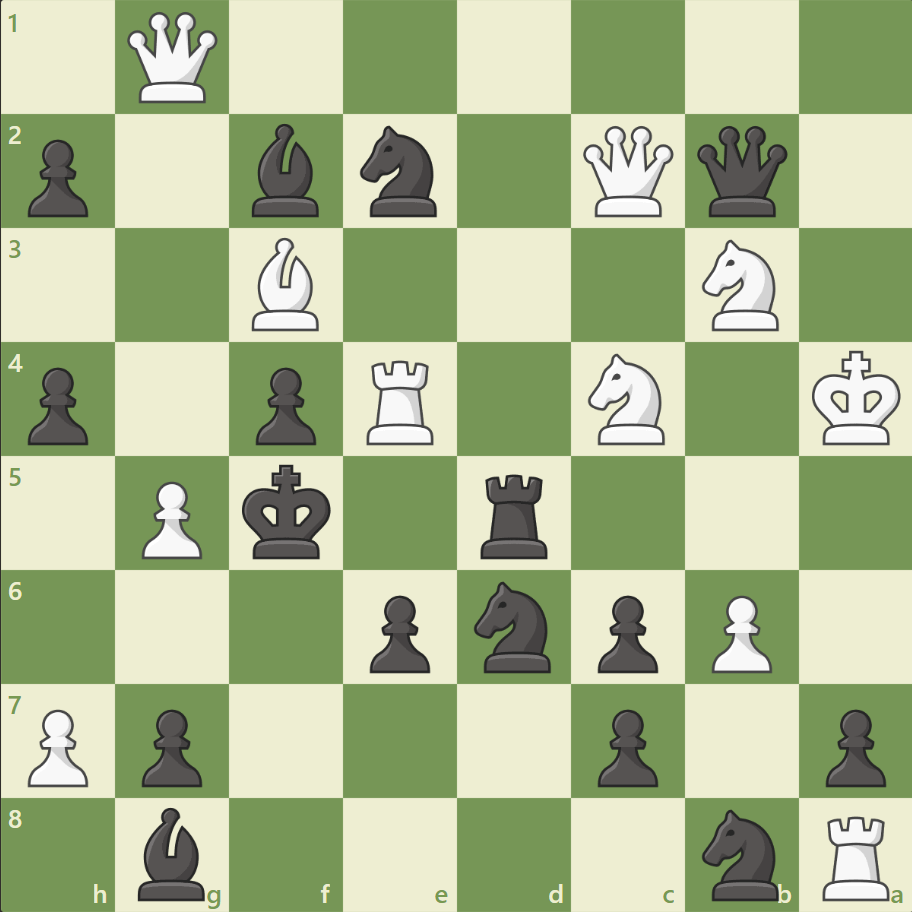B: (244, 233, 328, 336)
K: (806, 344, 906, 452)
N: (692, 234, 789, 337), (579, 348, 676, 450)
P: (20, 700, 95, 791), (701, 586, 776, 677), (133, 473, 208, 564)
Q: (578, 122, 677, 222), (124, 9, 223, 108)
R: (814, 806, 897, 904), (360, 352, 442, 449)
b: (131, 801, 215, 904), (244, 120, 328, 222)
k: (238, 458, 338, 566)
n: (351, 121, 449, 223), (692, 802, 789, 904), (465, 575, 562, 677)
p: (133, 700, 208, 791), (247, 359, 322, 450), (20, 359, 95, 450), (20, 132, 95, 223), (815, 700, 889, 791), (588, 700, 662, 791), (588, 586, 662, 677), (361, 586, 435, 677)
q: (691, 122, 790, 222)
r: (473, 466, 556, 563)
